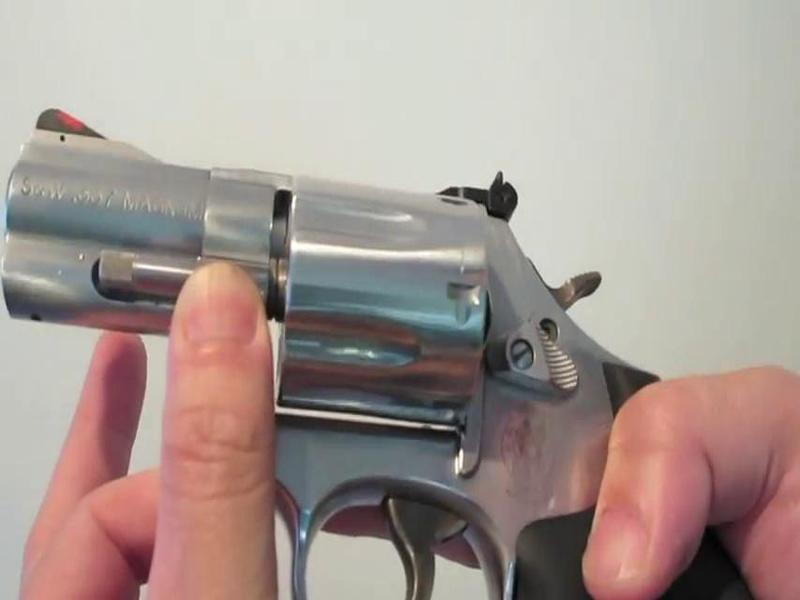Revolver: (12, 106, 766, 600)
